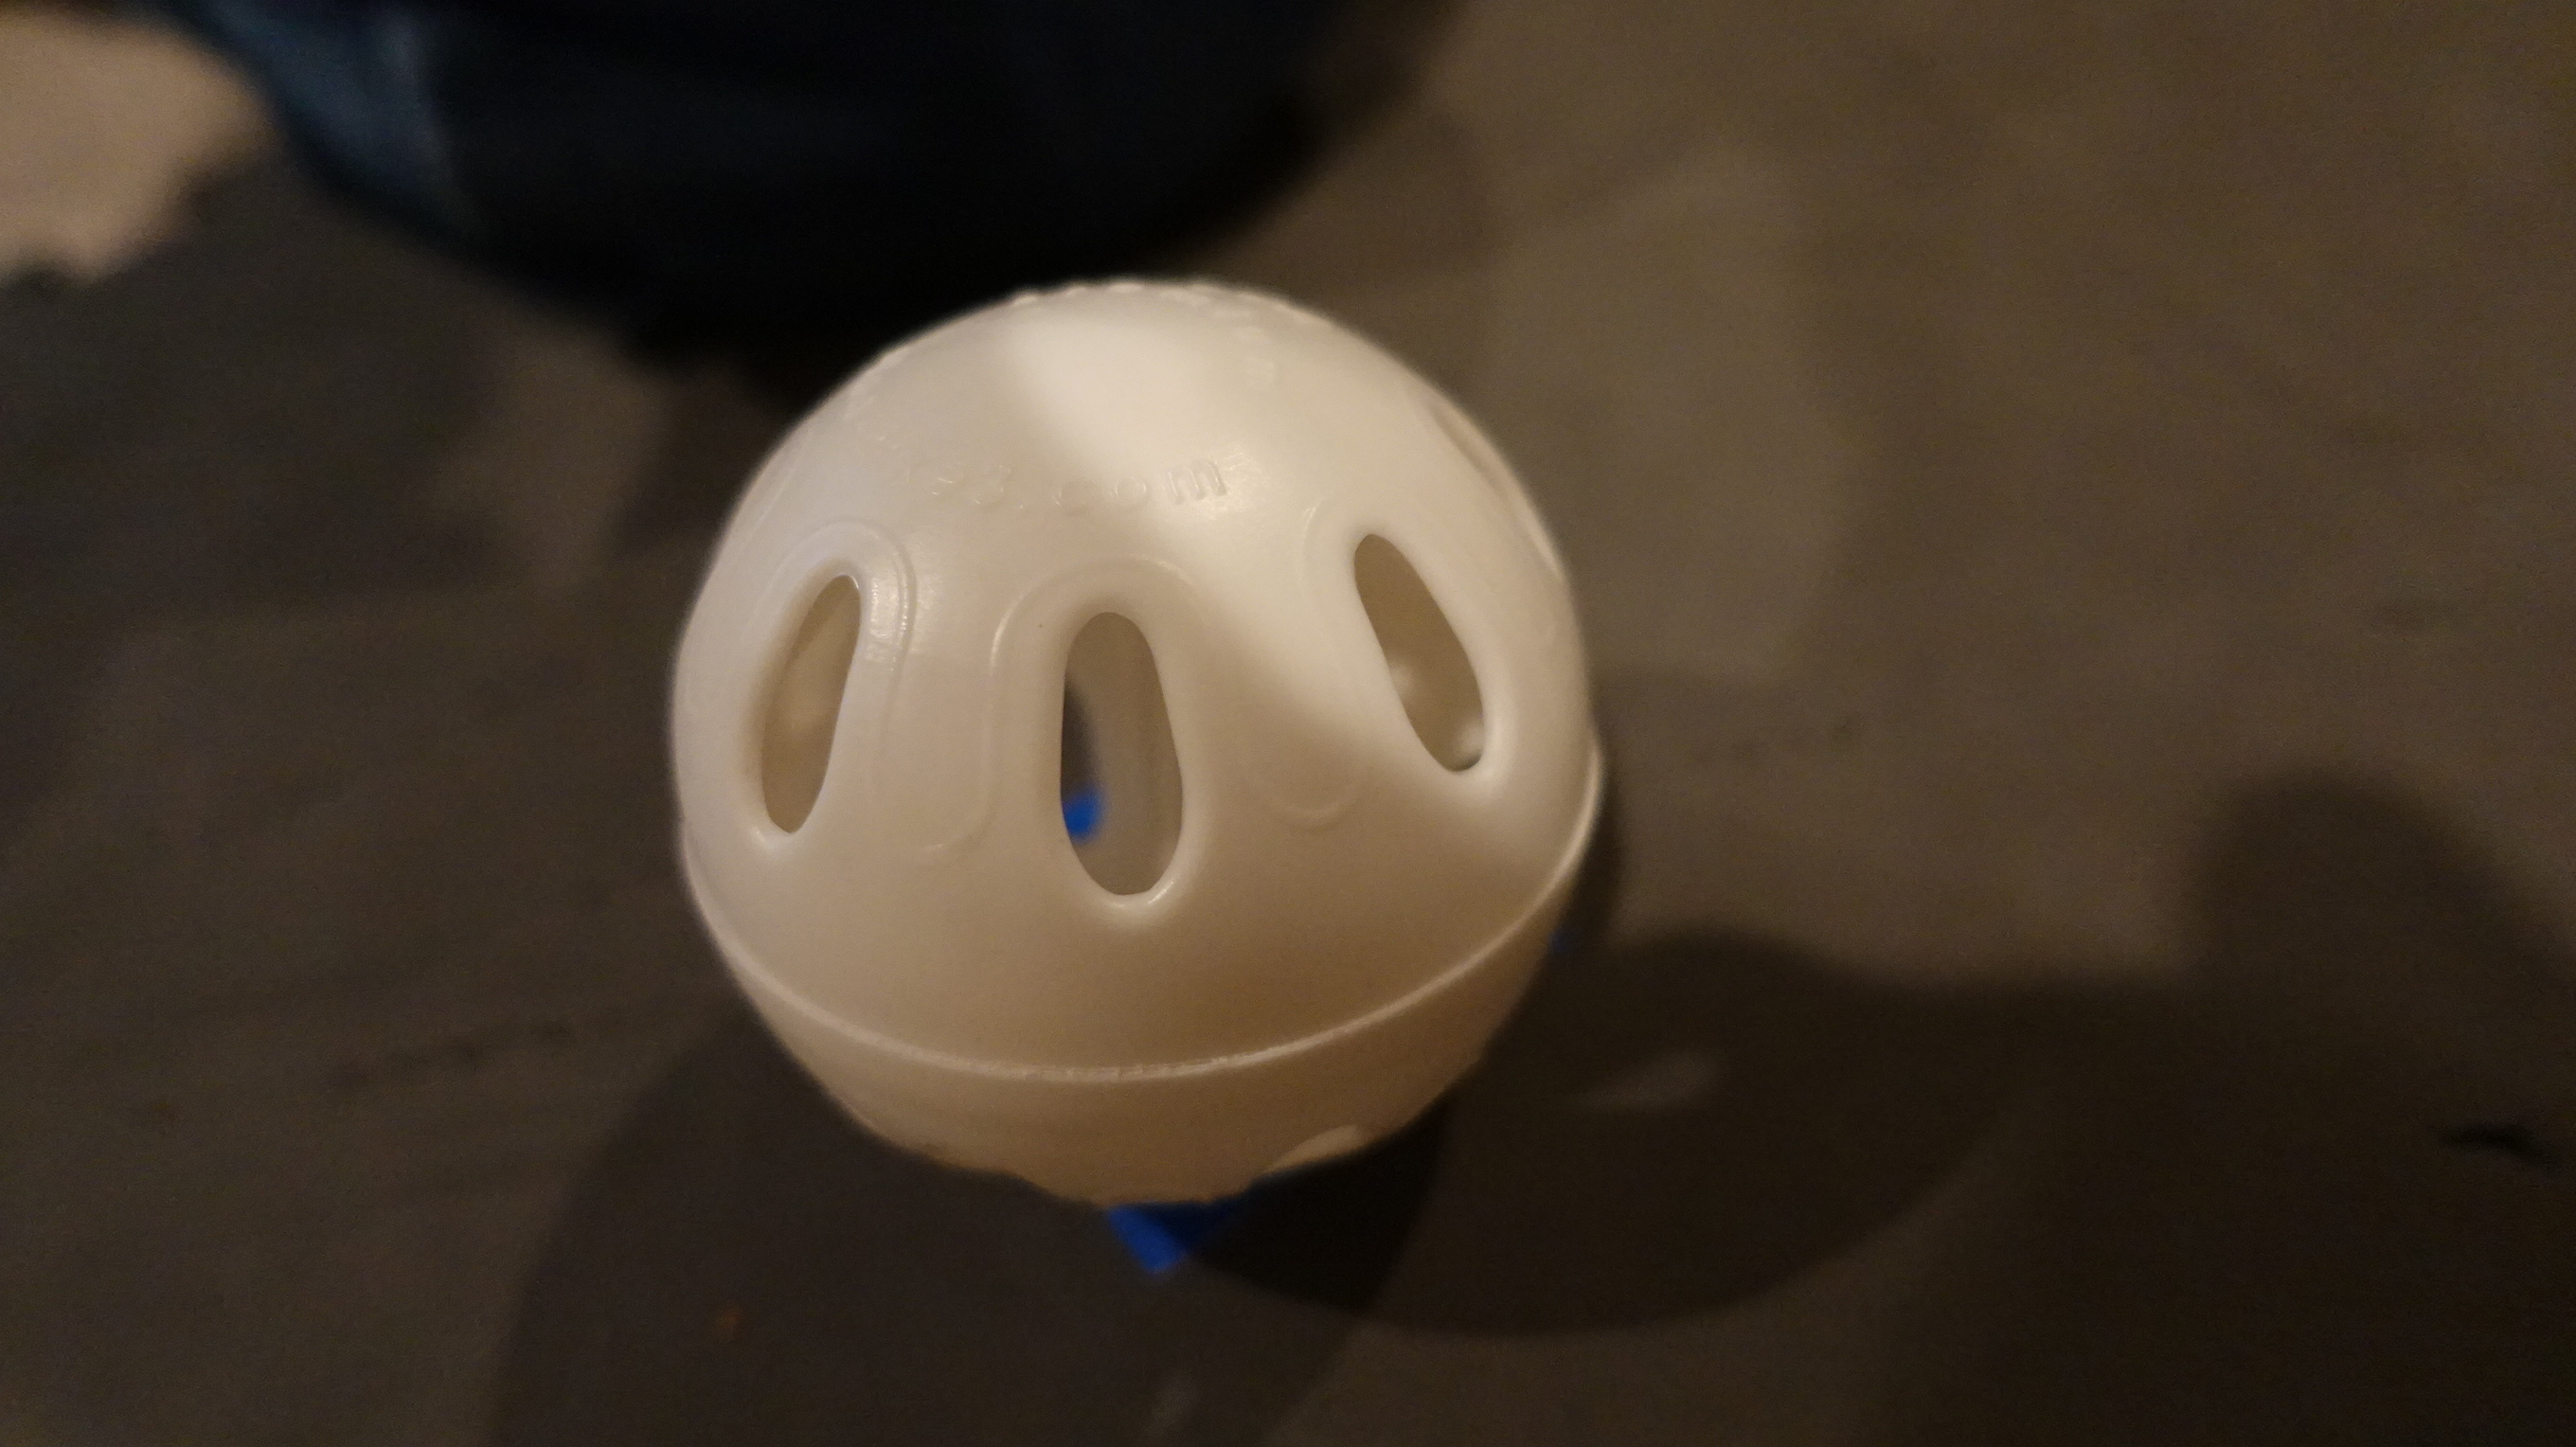silver: (639, 274, 1647, 1224)
